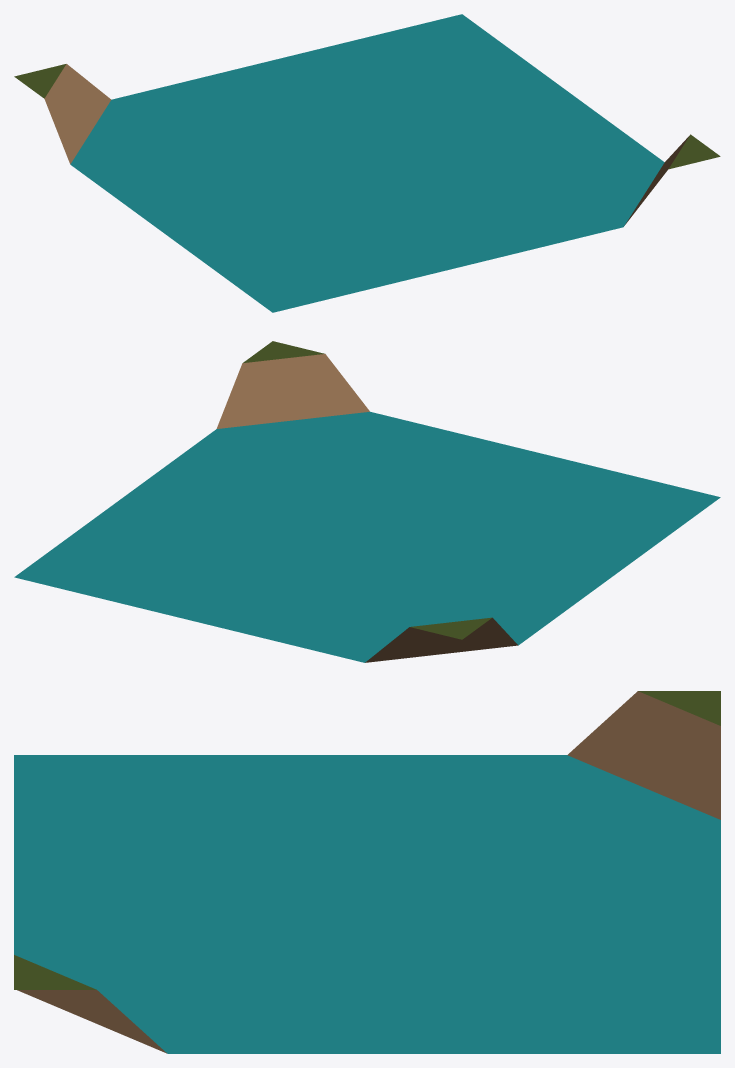
File: TB_Env_River_L.FBX
3 renders of one model, top to bottom at view 1: azimuth 30°, elevation 25°; view 2: azimuth 150°, elevation 25°; view 3: azimuth 270°, elevation 25°, orthographic. The views are drawn at different scales.
Visible parts, largest first — view 1: TB_Env_River_L; view 2: TB_Env_River_L; view 3: TB_Env_River_L.
Part boxes in pixels (x1,y1,x2,y2): TB_Env_River_L: (14,14,720,312); TB_Env_River_L: (14,341,720,662); TB_Env_River_L: (14,691,720,1053).
Bounding box in the file's own units: 10 × 1 × 10.
1 material, 1 textured.
